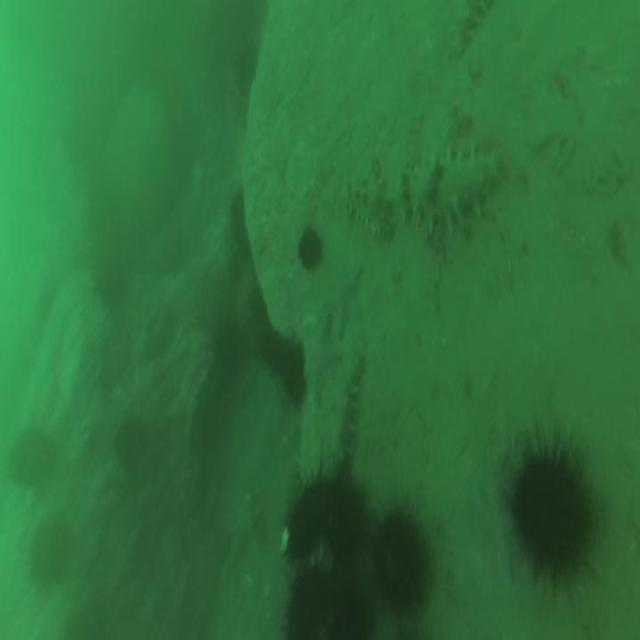echinus: (515, 455, 590, 571), (376, 514, 428, 610), (323, 555, 377, 635), (319, 474, 366, 550), (285, 568, 327, 638), (30, 515, 68, 588), (12, 425, 50, 490), (284, 486, 320, 554), (116, 419, 143, 468), (297, 224, 323, 272), (280, 346, 302, 400), (259, 328, 281, 366)
holothurian: (404, 155, 500, 229), (324, 341, 364, 460), (344, 175, 390, 242), (452, 2, 486, 60)
